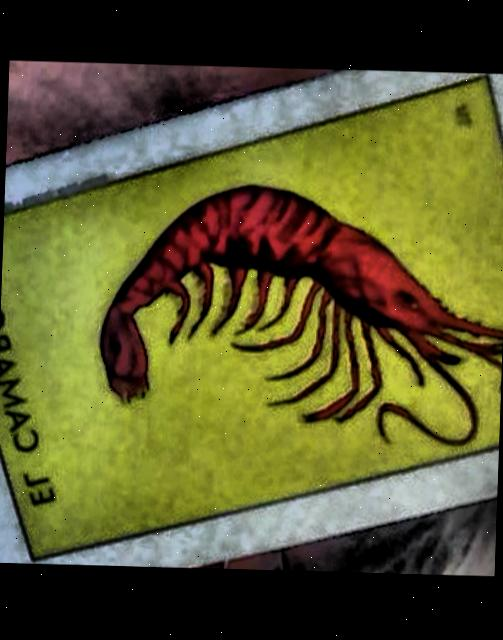El Camaron: (0, 84, 503, 564)
